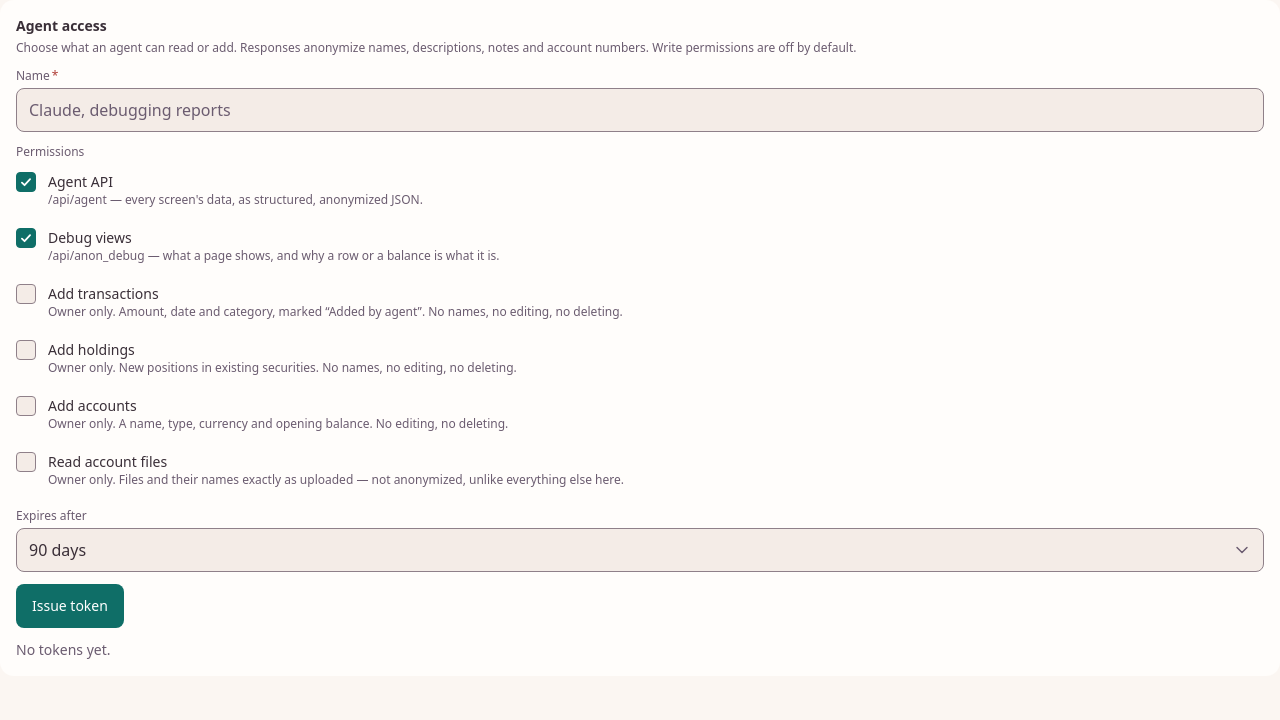
Test: AgentAccess › refuses to issue a token with no name or no scope
Submit the form with test id "agent-token-form"
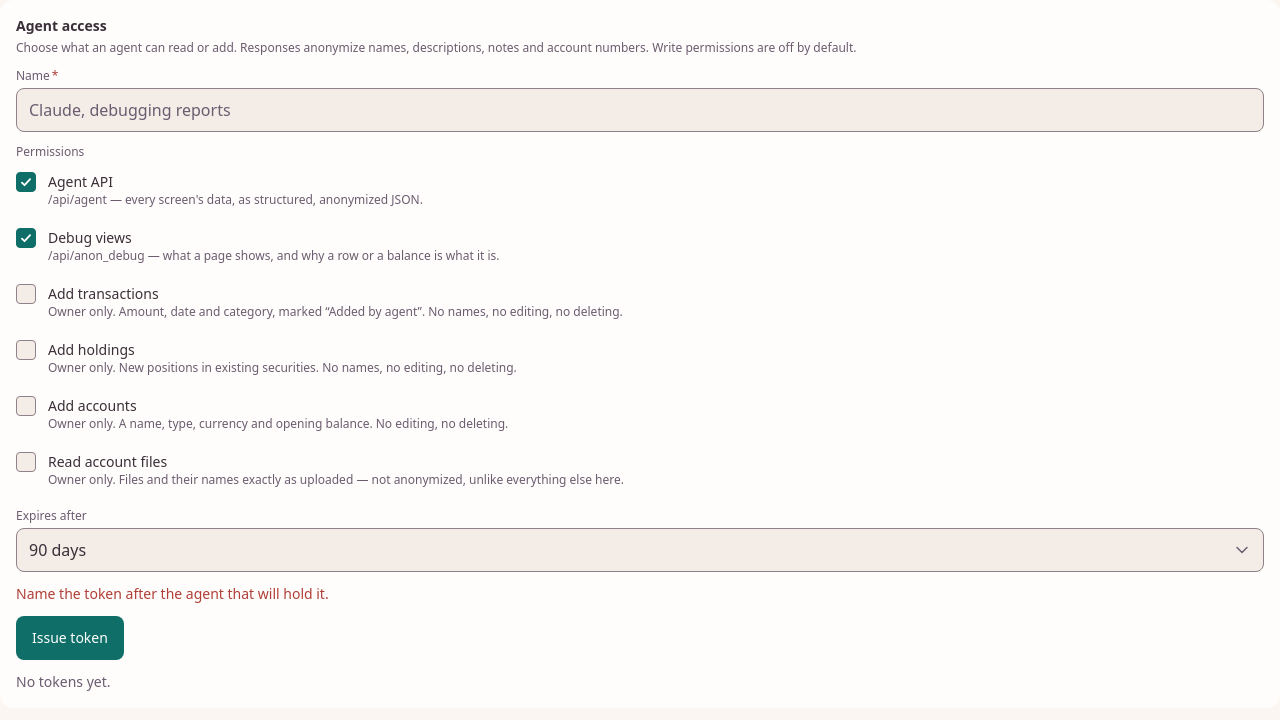
Result: the message with test id "agent-token-error" shows "Name the token" at [16, 584, 329, 603]
Type "x" into the field with test id "agent-token-name". click: (640,110)
box: [16, 88, 1264, 132]
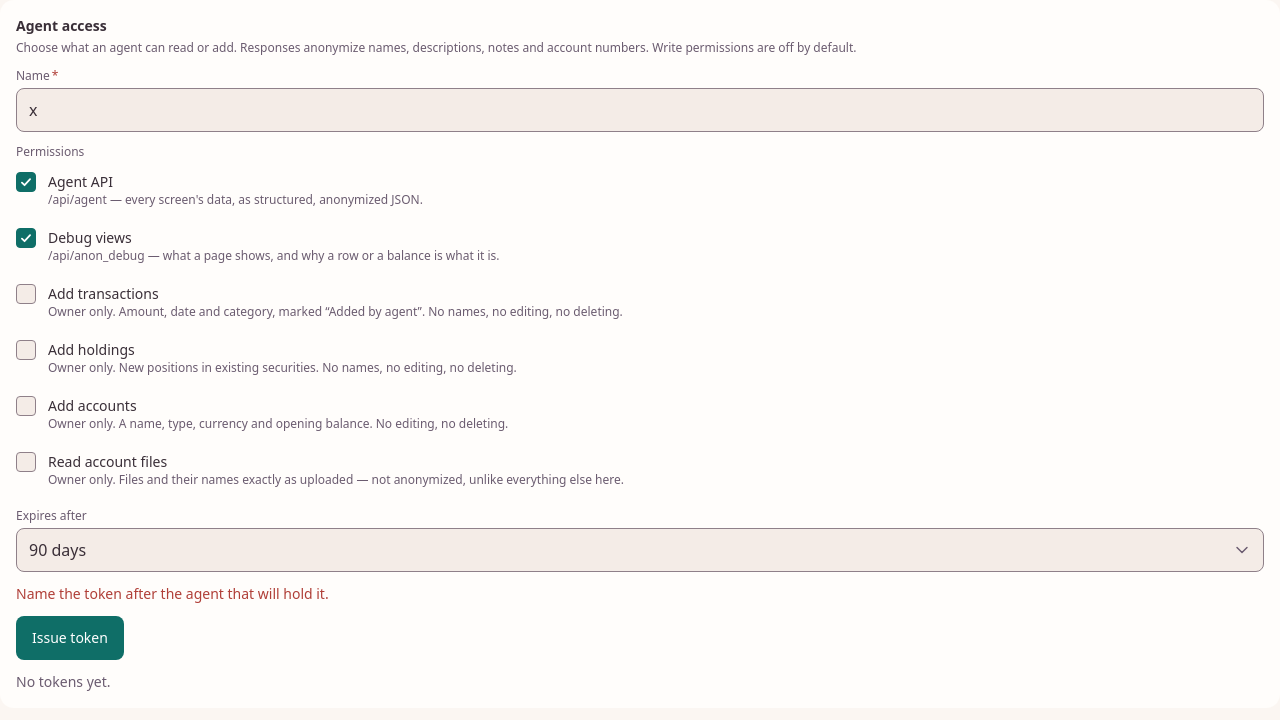
Click the checkbox with test id "agent-scope-agent:read". click: (26,182)
box: [16, 172, 36, 192]
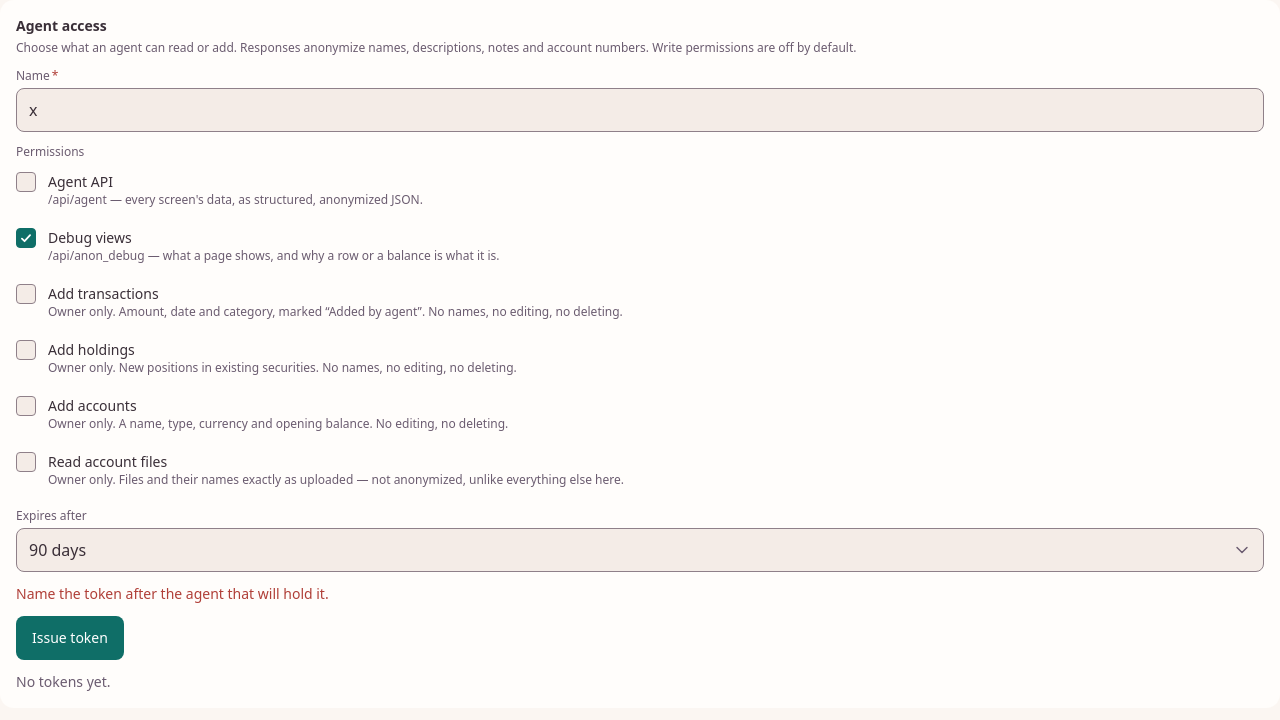
Click the checkbox with test id "agent-scope-debug:read". click: (26,238)
box: [16, 228, 36, 248]
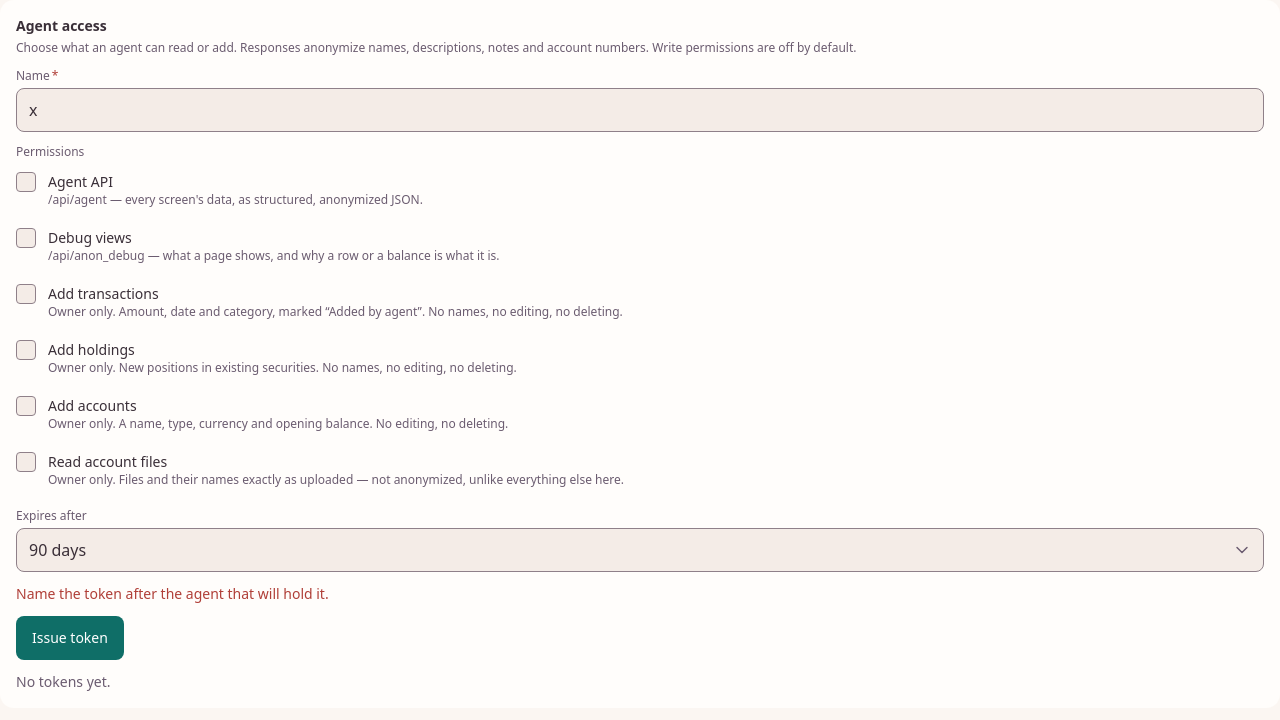
Submit the form with test id "agent-token-form"
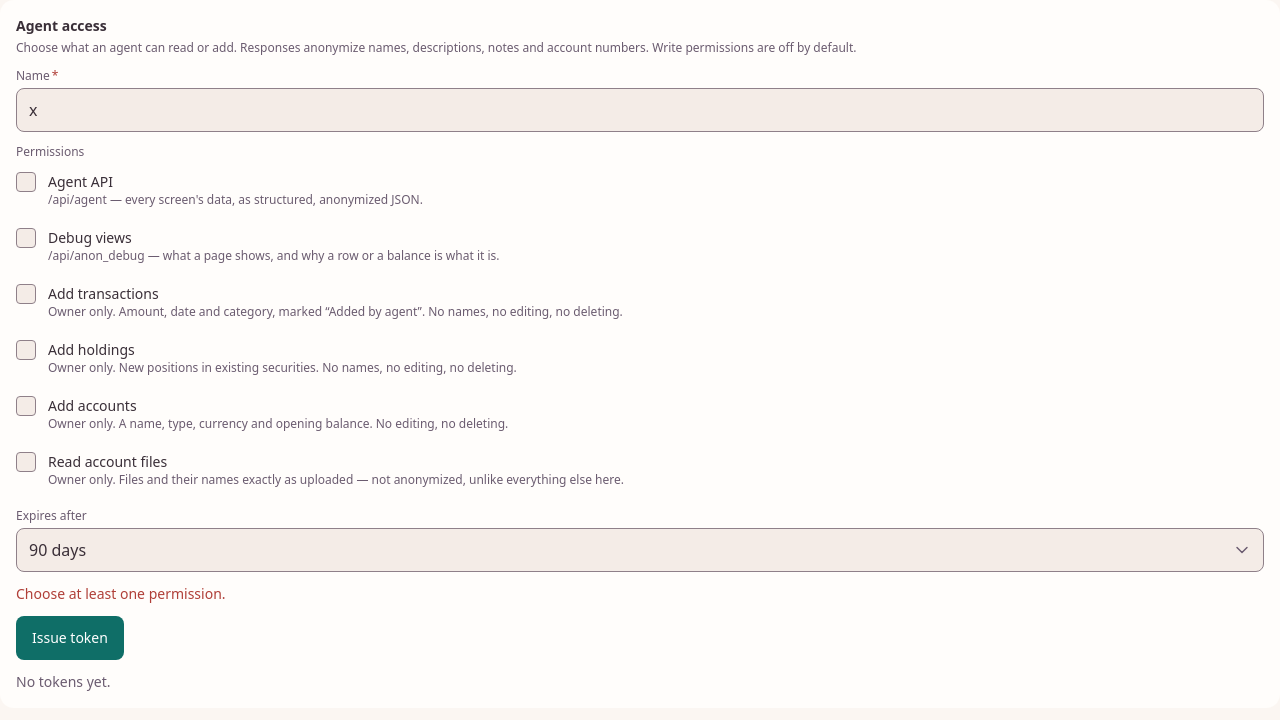
Result: the message with test id "agent-token-error" shows "at least one" at [16, 584, 226, 603]
